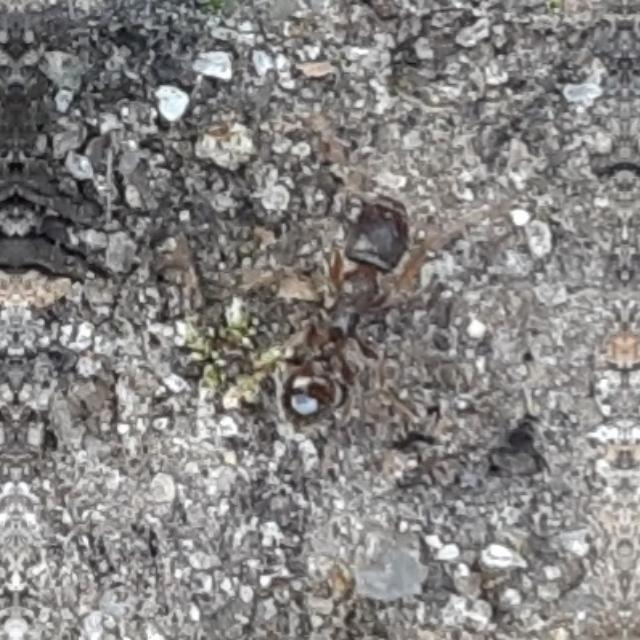Tetramorium: (232, 144, 468, 450)
